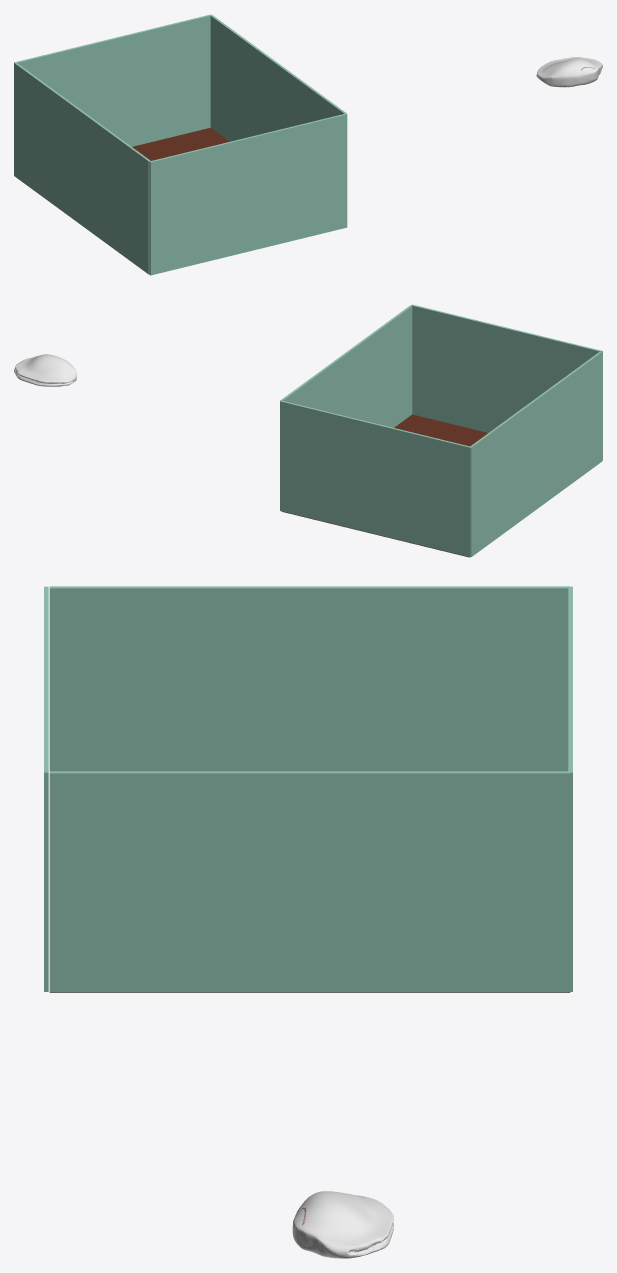
Rendered from goldfish.glb.
3 renders of one model, top to bottom at view 1: azimuth 30°, elevation 25°; view 2: azimuth 150°, elevation 25°; view 3: azimuth 270°, elevation 25°, orthographic. The views are drawn at different scales.
Visible parts, largest first — view 1: Cube.004, Cube.005, Cube.003, Cube.002, Cube.006, Cube.001; view 2: Cube.005, Cube.004, Cube.003, Cube.002, Cube.001, Cube.006; view 3: Cube.002, Cube.003, Cube.006, Cube.004, Cube.005.
Part boxes in pixels (box(x1,y1,x2,y2)): Cube.004: box(149, 113, 347, 275); Cube.005: box(14, 14, 211, 175); Cube.003: box(14, 62, 150, 274); Cube.002: box(210, 15, 346, 141); Cube.006: box(536, 57, 602, 87); Cube.001: box(132, 128, 229, 160); Cube.005: box(280, 400, 471, 557); Cube.004: box(411, 304, 602, 460); Cube.003: box(470, 352, 601, 556); Cube.002: box(280, 305, 412, 427); Cube.001: box(282, 414, 487, 557); Cube.006: box(14, 354, 76, 386); Cube.002: box(49, 771, 570, 992); Cube.003: box(49, 586, 570, 771); Cube.006: box(292, 1191, 393, 1258); Cube.004: box(44, 586, 48, 991); Cube.005: box(568, 586, 572, 991).
Size of the model in its own units: 94.54 by 19.55 by 42.34.
